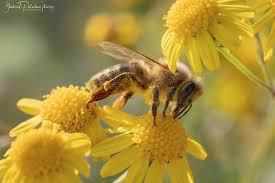bee: (79, 36, 217, 130)
